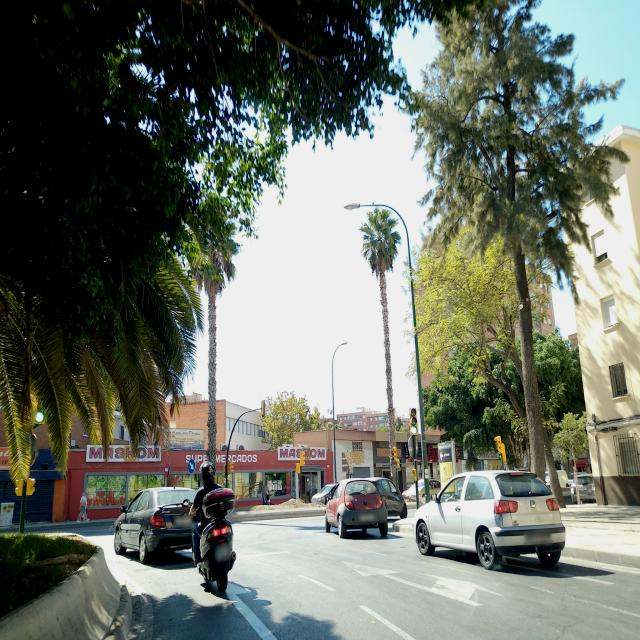bike: (189, 497, 237, 597)
car: (414, 469, 566, 570), (113, 486, 198, 564), (324, 477, 388, 538), (363, 476, 407, 520), (401, 477, 442, 503), (567, 475, 595, 503), (311, 482, 337, 505)
